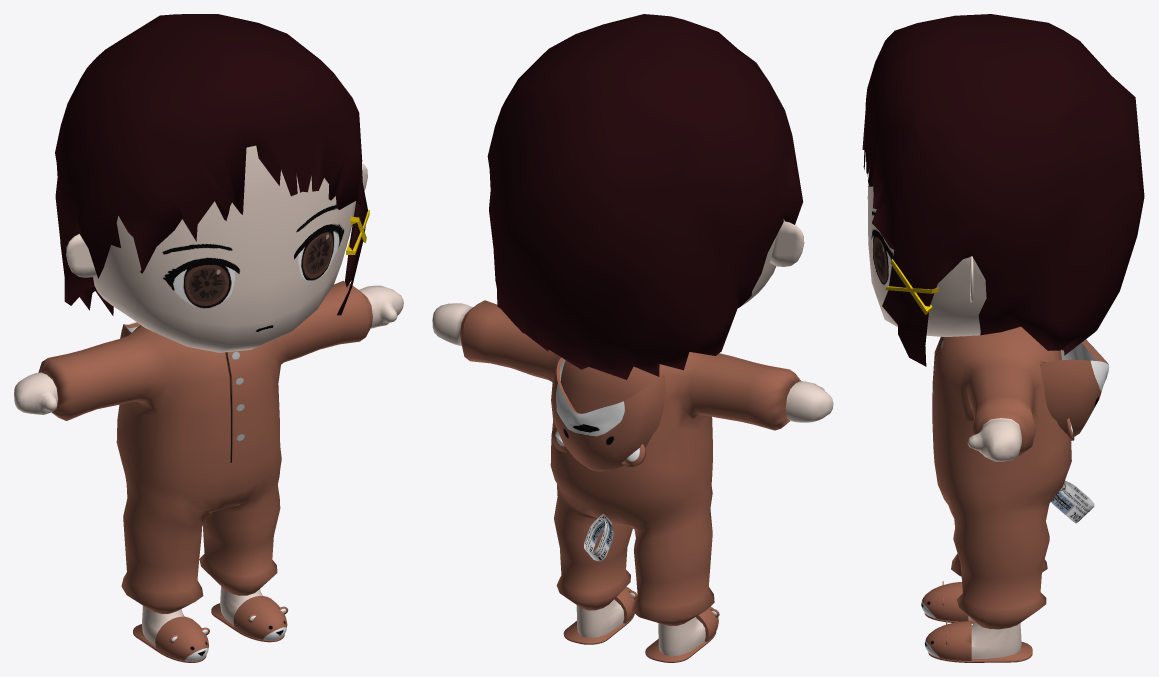
The model's file is lain boners.fbx.
The picture shows the model from 3 angles, left to right: view 1: azimuth 30°, elevation 25°; view 2: azimuth 150°, elevation 25°; view 3: azimuth 270°, elevation 25°; orthographic projection.
Parts seen in each view (by area): view 1: LainChikita; view 2: LainChikita; view 3: LainChikita.
Boxes of the visible parts, x1=… form: LainChikita: x1=14, y1=14, x2=403, y2=662; LainChikita: x1=432, y1=14, x2=833, y2=662; LainChikita: x1=862, y1=14, x2=1144, y2=662.
Size of the model in its own units: 321 by 469 by 198.
